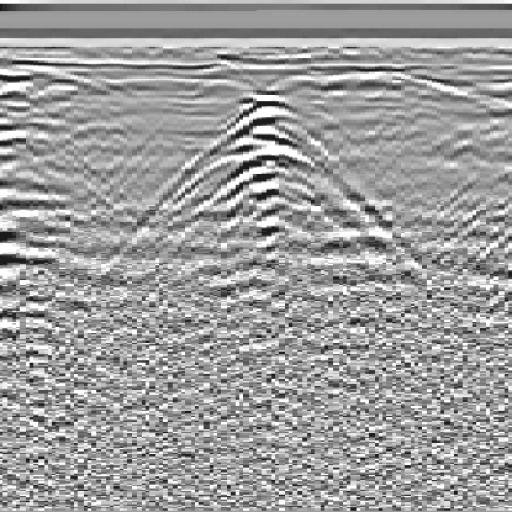metalic: (127, 76, 405, 301)
